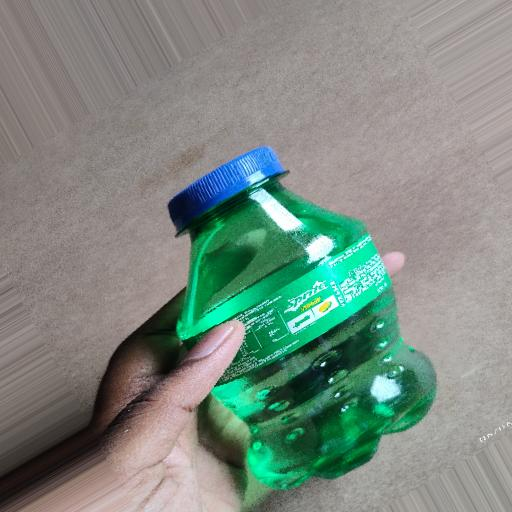Sprite: (135, 128, 458, 495)
